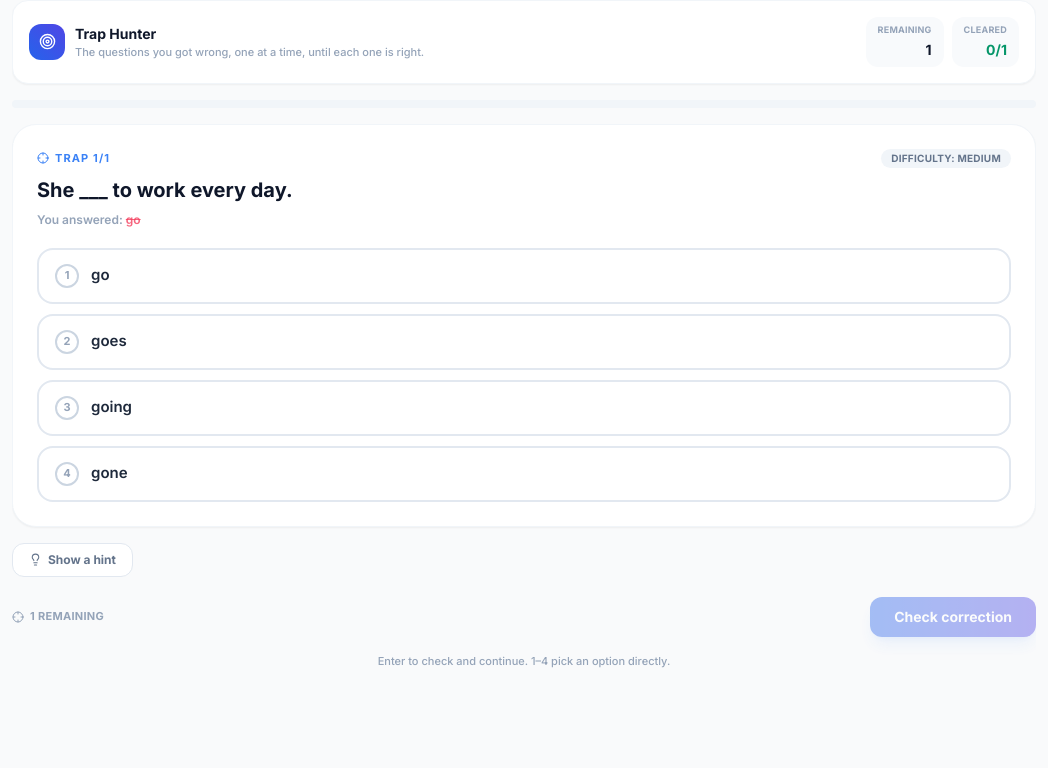
Scenario: explanations are authored or absent › renders the explanation an author wrote
Step 1. Click the radio button labelled "2 goes" → (109, 341), box [37, 314, 1011, 370]
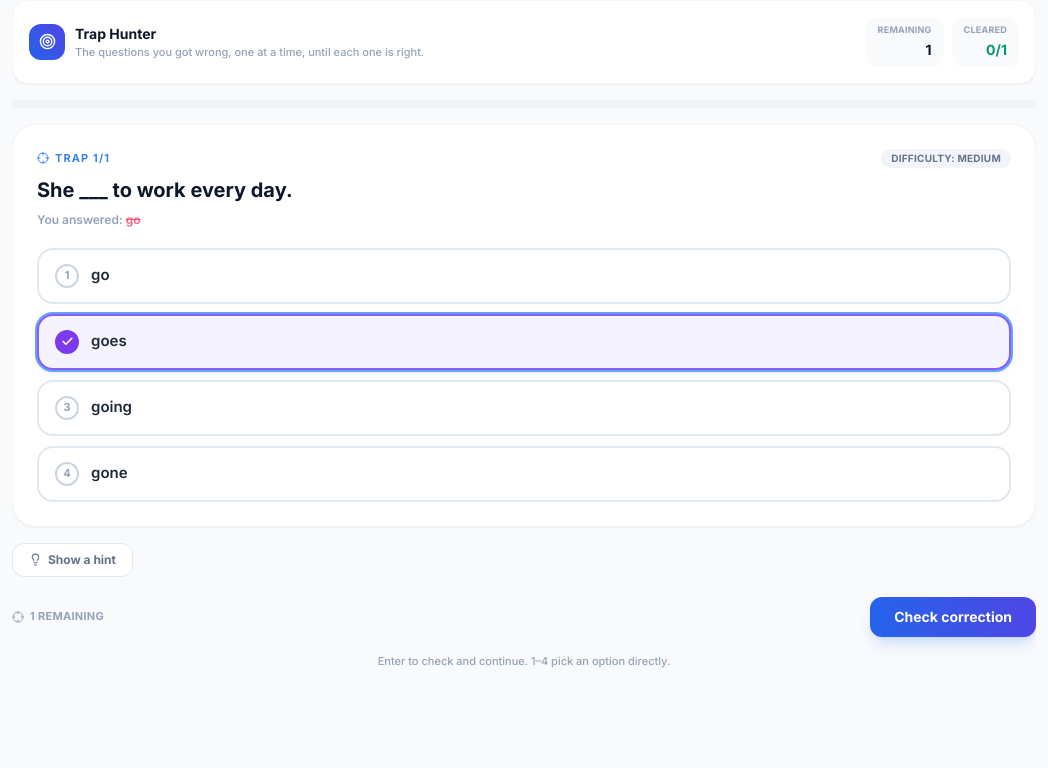
Step 2. Click the button "Check correction" → (953, 616), box [870, 596, 1036, 636]
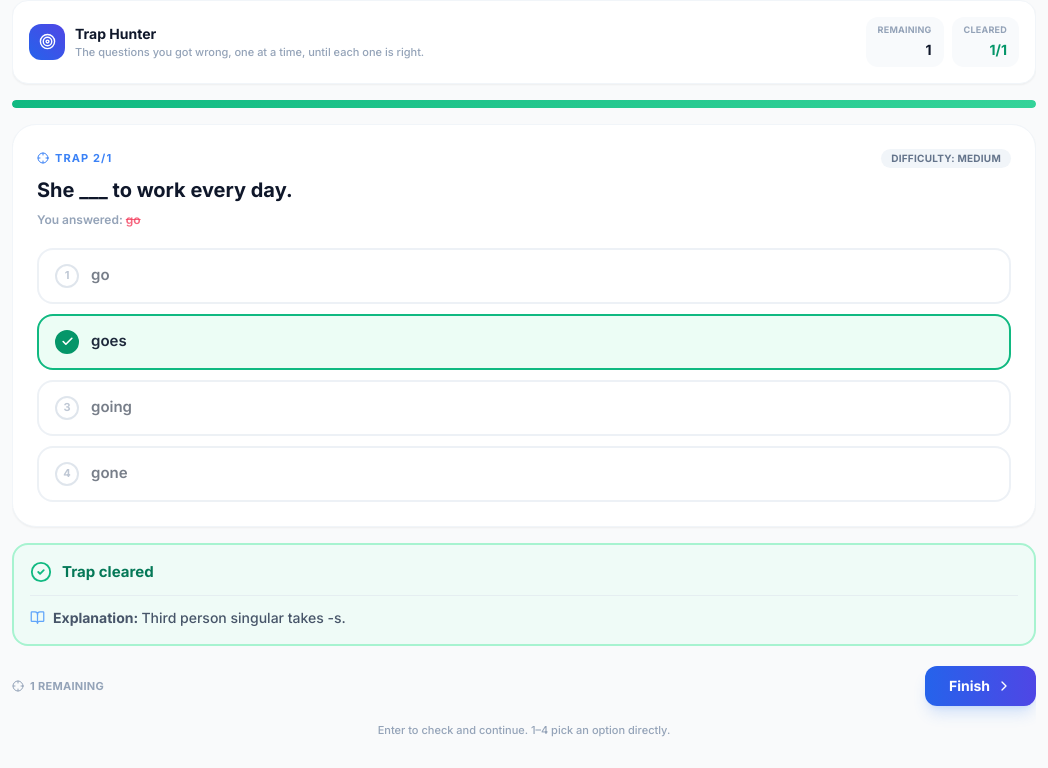
Now the text "Explanation: Third person singular takes -s." is shown, box [53, 608, 346, 628]
